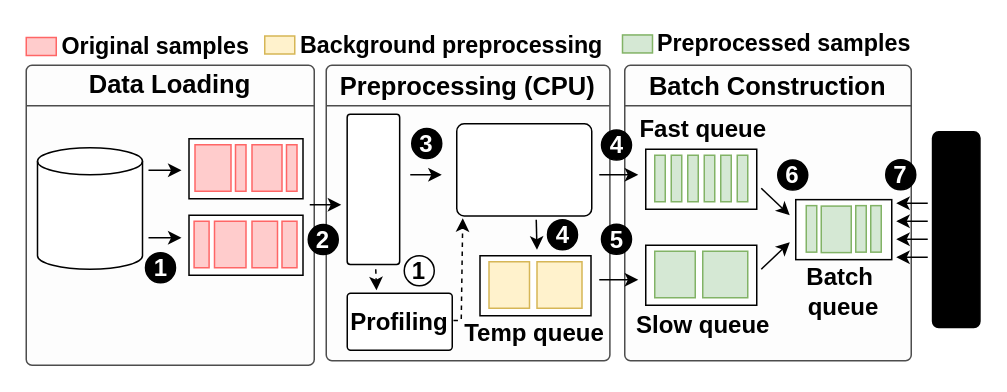
Image size: 1007x392. Some labels were removed from this diagram. Here are the shapes that lost their labels. From the top down, the centre of each, then its label:
[373,188]: Processing
[523,169]: Sample-aware load balancer
[89,207]: Storage backend
[955,228]: GPU
